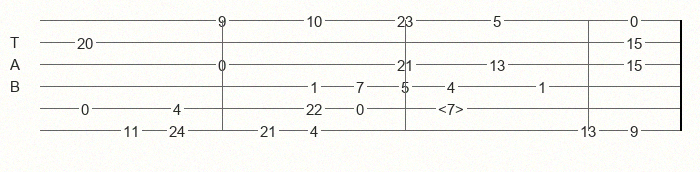0: (81, 101, 93, 116), (218, 57, 230, 72), (356, 101, 368, 116), (630, 13, 642, 28)
1: (310, 79, 322, 94), (538, 79, 550, 94)
10: (306, 13, 326, 28)
11: (123, 123, 143, 138)
13: (489, 57, 509, 72), (580, 123, 600, 138)
15: (626, 35, 646, 50), (626, 57, 646, 72)
20: (77, 35, 97, 50)
21: (260, 123, 280, 138), (397, 57, 417, 72)
22: (306, 101, 326, 116)
23: (397, 13, 417, 28)
24: (169, 123, 189, 138)
4: (173, 101, 185, 116), (310, 123, 322, 138), (447, 79, 459, 94)
5: (401, 79, 413, 94), (493, 13, 505, 28)
7: (356, 79, 368, 94)
9: (218, 13, 230, 28), (630, 123, 642, 138)
harmonic: (438, 101, 468, 116)
